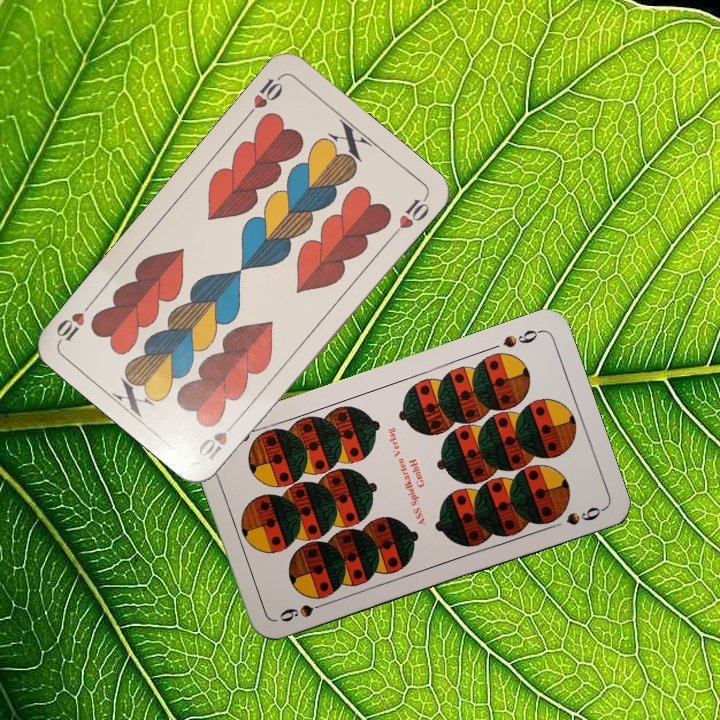H10: (194, 415, 242, 464), (242, 72, 286, 121)
S9: (275, 597, 331, 625), (499, 325, 544, 351)
